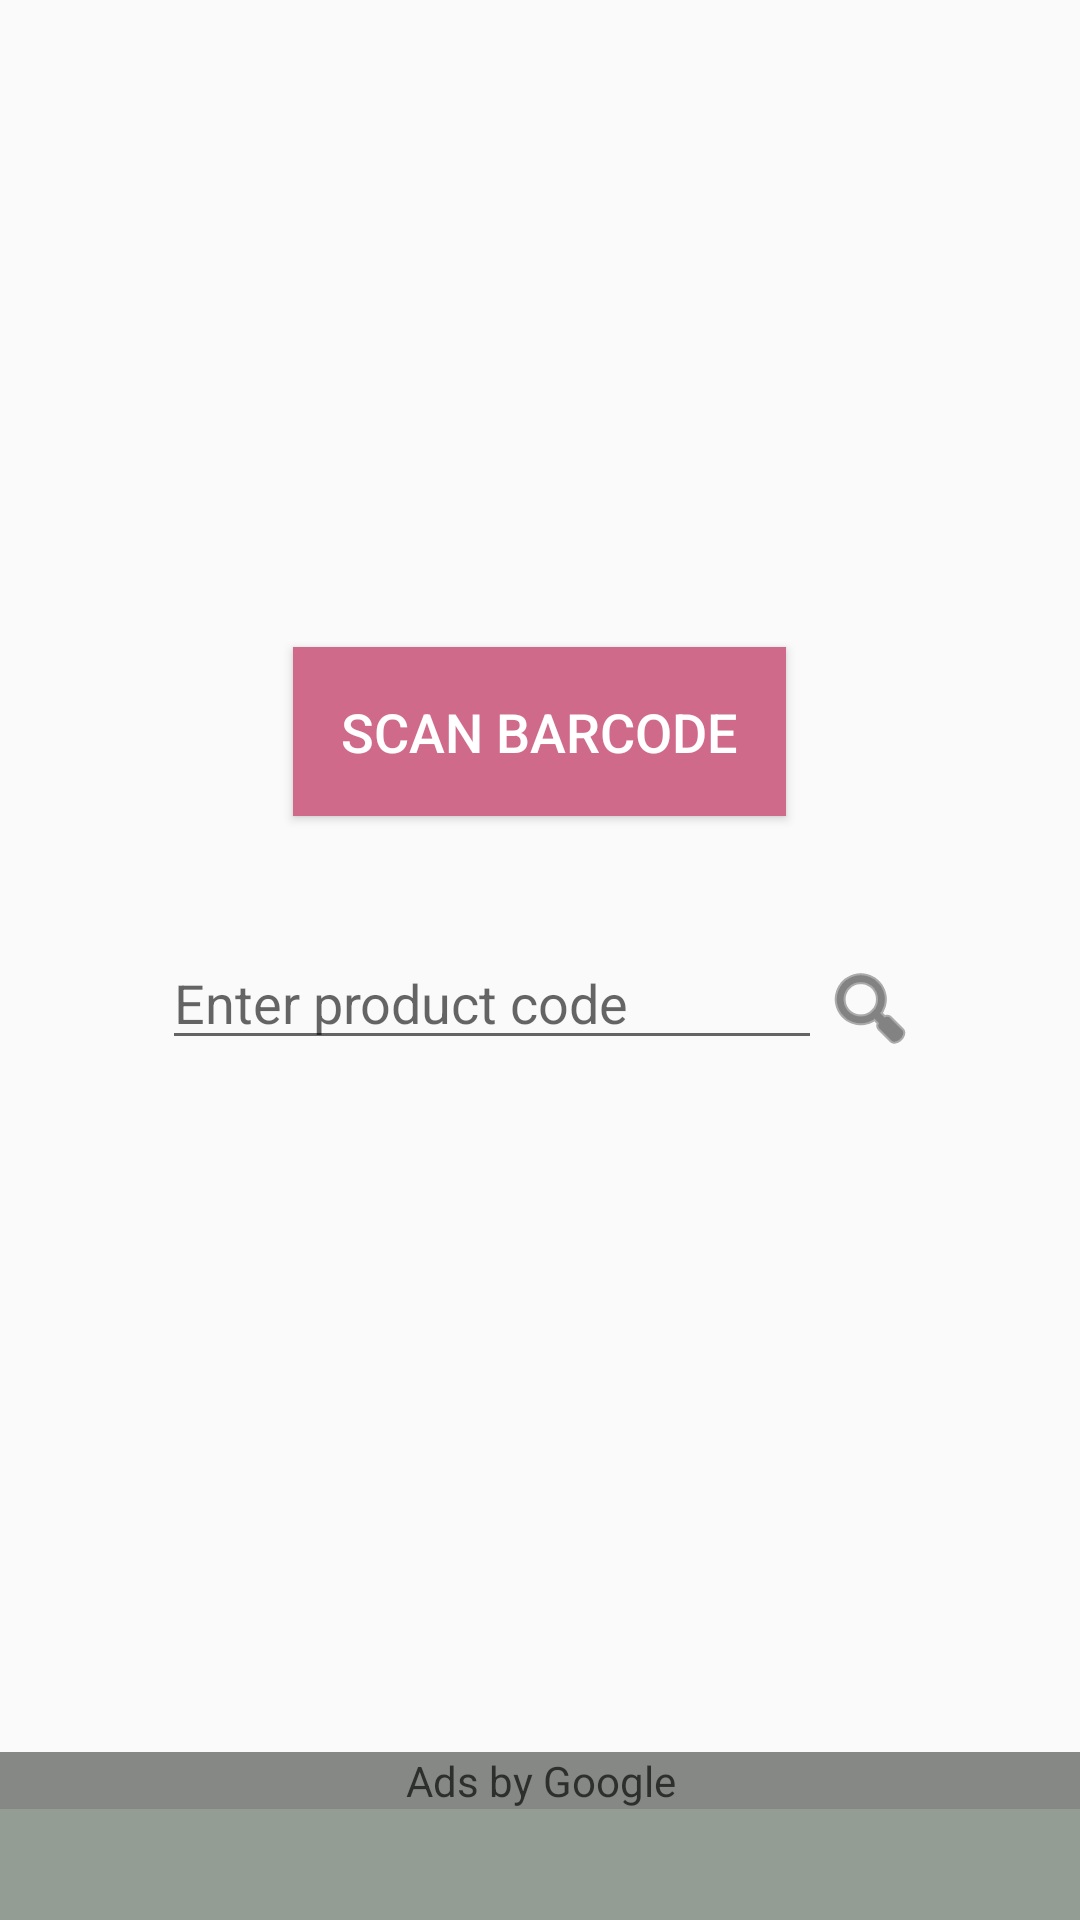

Locate icon controls on the screen. Image size 1080px x 1920px, boxes as (x1, y1, x2, y2).
Search: (835, 973, 905, 1044)
